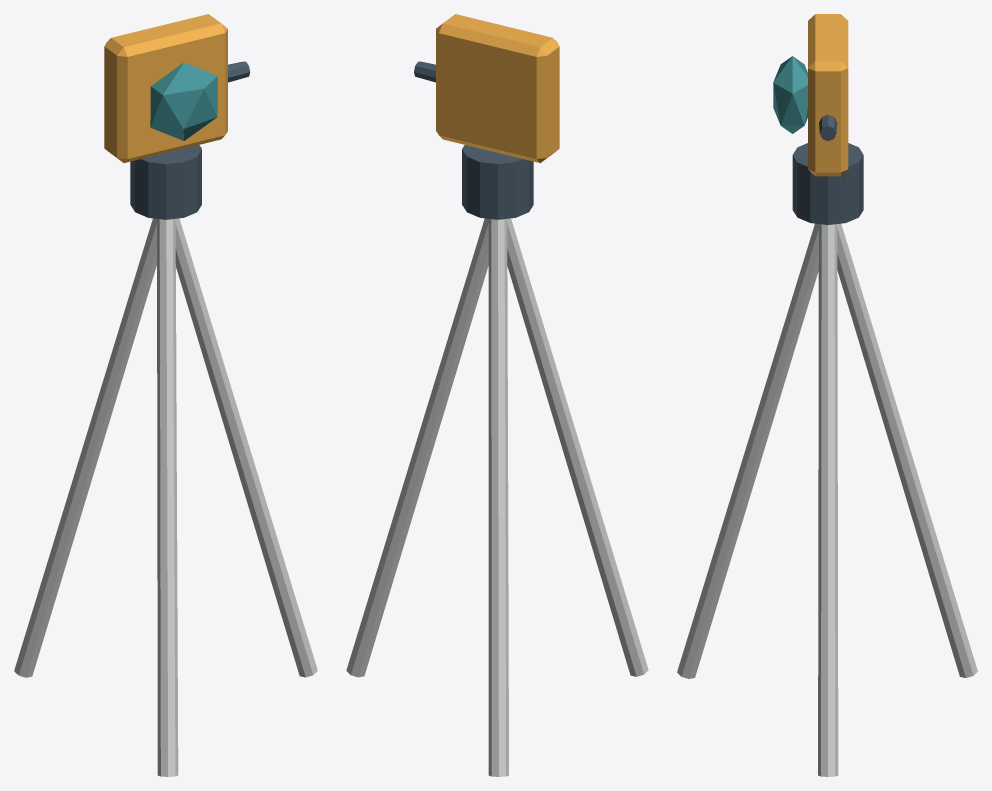
3 views of the same model, side by side, from view 1: azimuth 30°, elevation 25°; view 2: azimuth 150°, elevation 25°; view 3: azimuth 270°, elevation 25° (orthographic).
Parts seen in each view (by area): view 1: ME-039 Tripod optical survey prism batched; view 2: ME-039 Tripod optical survey prism batched; view 3: ME-039 Tripod optical survey prism batched.
Boxes of the visible parts, box(x1,y1,x2,y2) form: ME-039 Tripod optical survey prism batched: box(14, 14, 317, 776); ME-039 Tripod optical survey prism batched: box(346, 14, 648, 776); ME-039 Tripod optical survey prism batched: box(677, 14, 977, 776).
Size of the model in its own units: 0.5198 by 1.46 by 0.5927.
